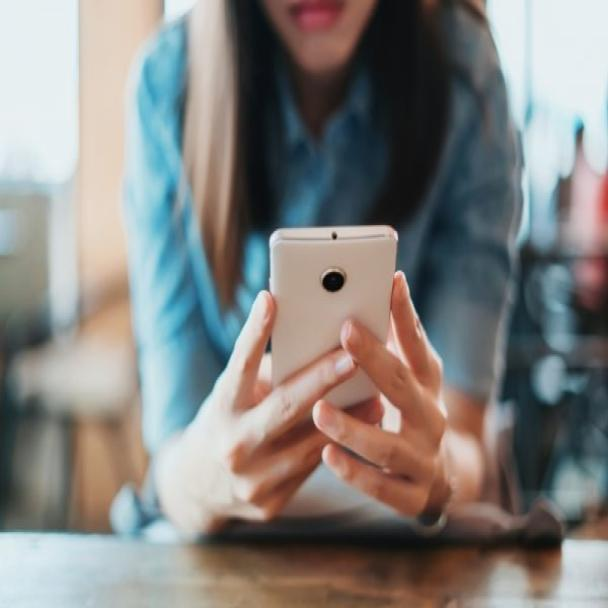Handphone: (265, 218, 398, 486)
